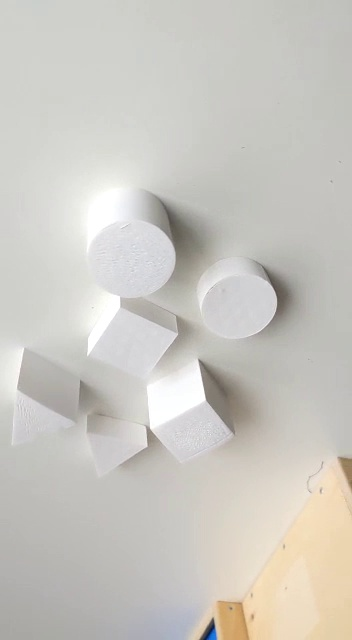Clyinder_short: (194, 253, 278, 342)
Cube: (143, 357, 238, 467)
Cube_short: (83, 291, 183, 390)
Cylinder: (75, 183, 176, 300)
Triangle: (10, 346, 82, 449)
Triangle_short: (83, 407, 152, 482)
